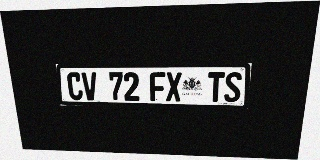2: (123, 72, 139, 101)
7: (108, 72, 124, 101)
C: (66, 72, 83, 100)
F: (150, 72, 165, 101)
S: (224, 72, 242, 102)
T: (207, 72, 225, 102)
V: (81, 72, 98, 100)
X: (166, 72, 182, 101)
